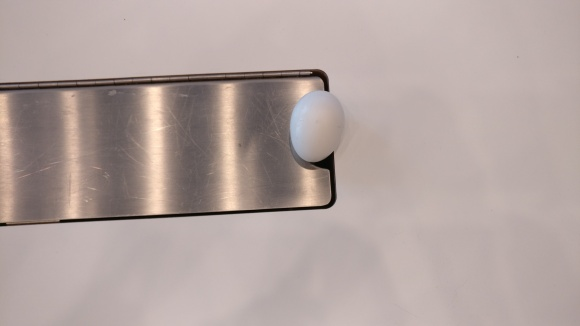egg: (288, 90, 345, 162)
